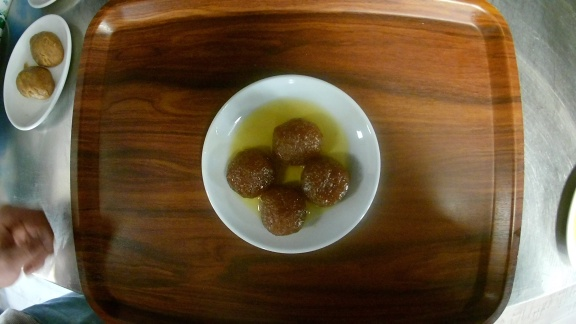kemalpasa: (201, 73, 382, 250)
